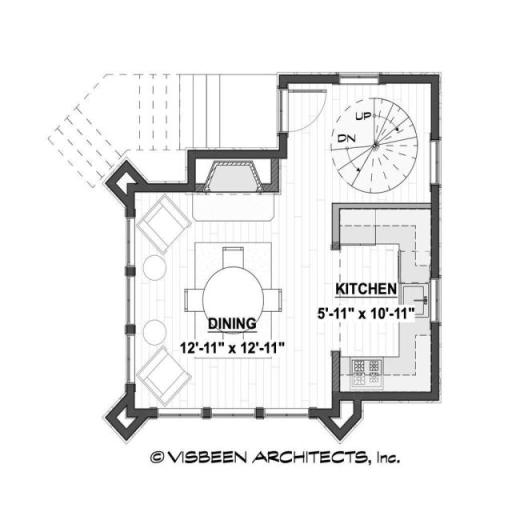Room: (138, 192, 332, 406)
kitchen: (342, 211, 430, 396)
